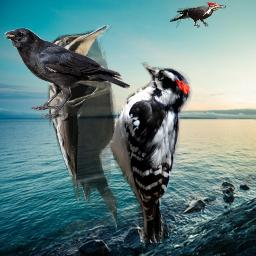Crow: (4, 27, 130, 119)
Woodpecker: (35, 25, 117, 232), (108, 62, 193, 243), (170, 2, 226, 29)
